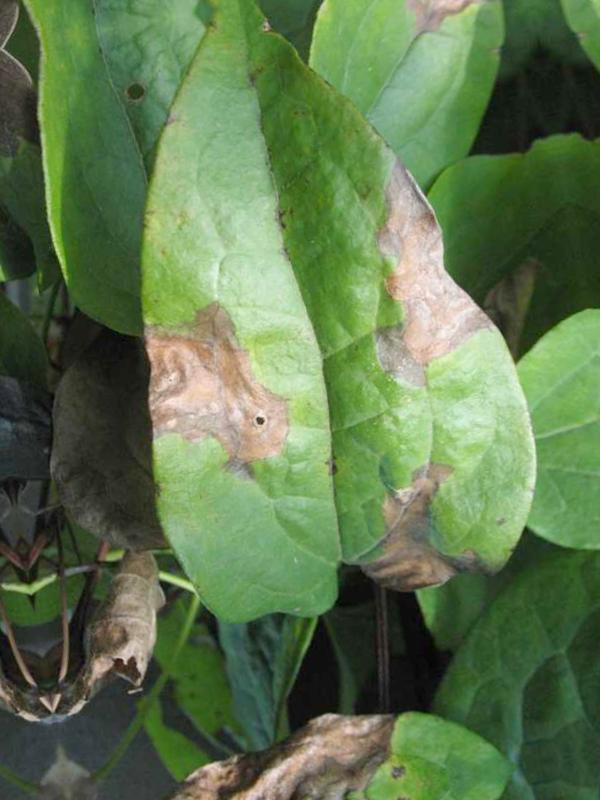Tomato leaf bacterial spot: (78, 0, 568, 652)
